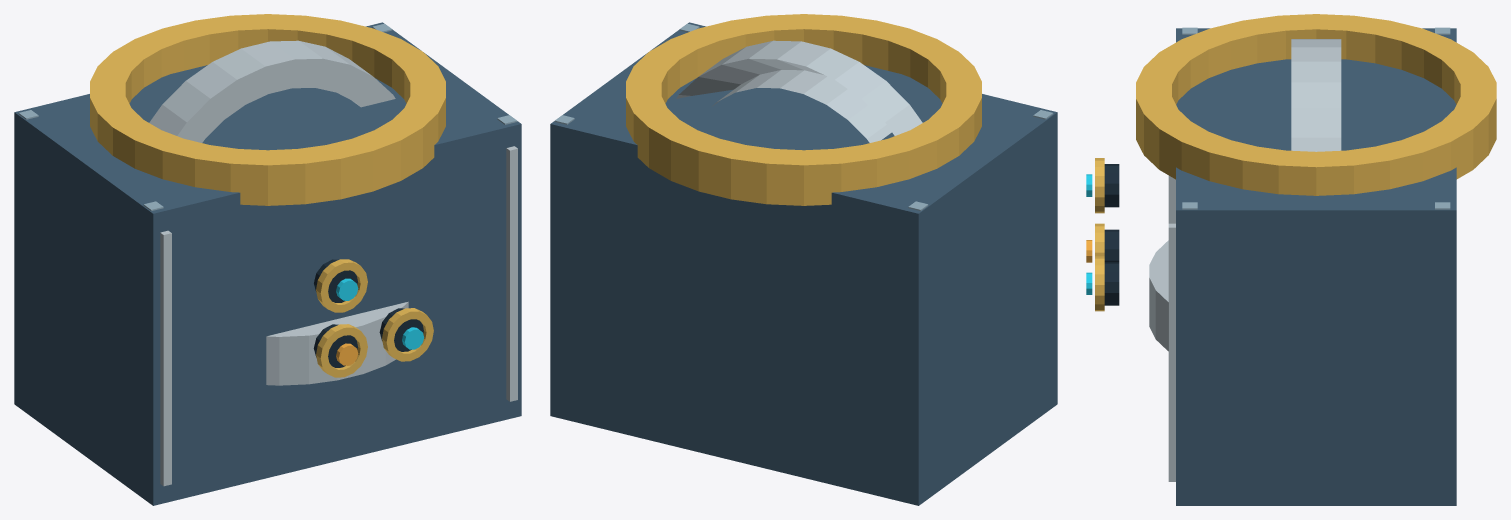
The model's file is 10_L83_SolarArrayStarboardTrackingGimbal.fbx.
3 views of the same model, side by side, from view 1: azimuth 30°, elevation 25°; view 2: azimuth 150°, elevation 25°; view 3: azimuth 270°, elevation 25° (orthographic).
Parts seen in each view (by area): view 1: SolarArrayStarboardTrackingGimbal, SolarArrayStarboardTrackingGimbal_Part_0007, SolarArrayStarboardTrackingGimbal_Part_0008, SolarArrayStarboardTrackingGimbal_Part_0009; view 2: SolarArrayStarboardTrackingGimbal, SolarArrayStarboardTrackingGimbal_Part_0007, SolarArrayStarboardTrackingGimbal_Part_0008; view 3: SolarArrayStarboardTrackingGimbal, SolarArrayStarboardTrackingGimbal_Part_0007, SolarArrayStarboardTrackingGimbal_Part_0008, SolarArrayStarboardTrackingGimbal_Part_0009.
Boxes of the visible parts, x1,y1,x2,y2 form: SolarArrayStarboardTrackingGimbal: (14,22,521,505); SolarArrayStarboardTrackingGimbal_Part_0007: (90,14,445,205); SolarArrayStarboardTrackingGimbal_Part_0008: (149,40,395,142); SolarArrayStarboardTrackingGimbal_Part_0009: (266,301,408,385); SolarArrayStarboardTrackingGimbal: (550,22,1057,505); SolarArrayStarboardTrackingGimbal_Part_0007: (626,14,981,205); SolarArrayStarboardTrackingGimbal_Part_0008: (676,40,922,142); SolarArrayStarboardTrackingGimbal: (1086,27,1456,505); SolarArrayStarboardTrackingGimbal_Part_0007: (1136,14,1496,195); SolarArrayStarboardTrackingGimbal_Part_0008: (1291,39,1341,151); SolarArrayStarboardTrackingGimbal_Part_0009: (1149,240,1168,351).
Size of the model in its own units: 95 by 87.8 by 90.51.
